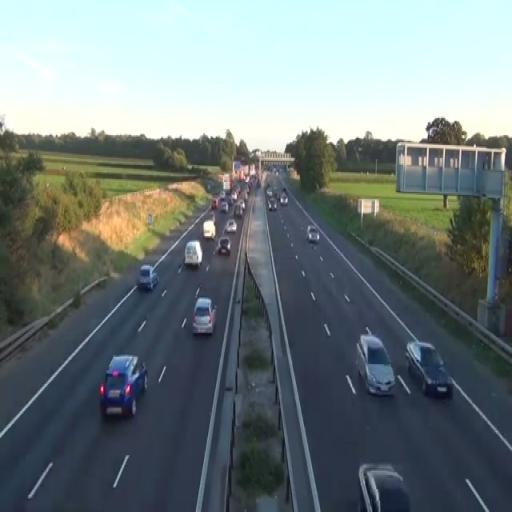Car: (98, 354, 148, 420), (404, 339, 452, 399), (358, 462, 411, 512), (355, 333, 396, 397), (191, 296, 216, 336), (138, 264, 159, 292), (184, 241, 202, 267), (216, 236, 230, 256), (306, 224, 320, 244), (202, 220, 216, 240), (225, 219, 237, 232), (218, 198, 228, 213)
